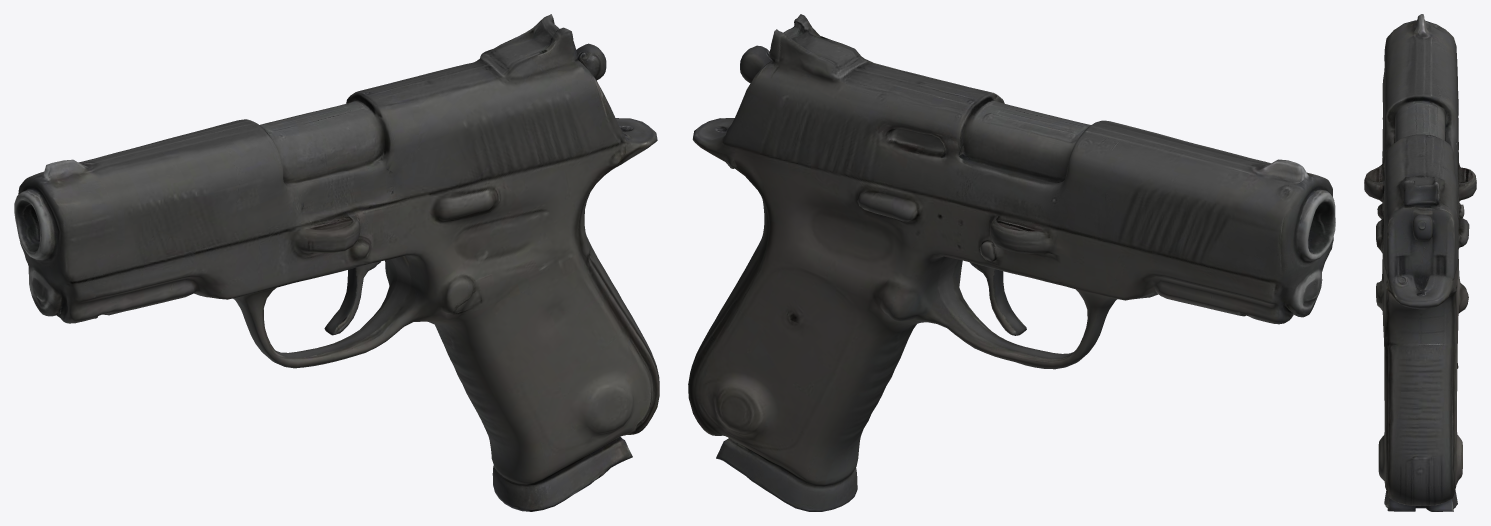
Rendered from wp_pistol.glb.
3 renders of one model, left to right at view 1: azimuth 30°, elevation 25°; view 2: azimuth 150°, elevation 25°; view 3: azimuth 270°, elevation 25°, orthographic. The views are drawn at different scales.
Visible parts, largest first — view 1: Mesh_0; view 2: Mesh_0; view 3: Mesh_0.
Part boxes in pixels (<box>): Mesh_0: <box>14,14,659,511</box>; Mesh_0: <box>688,14,1335,511</box>; Mesh_0: <box>1364,14,1476,511</box>.
Bounding box in the file's own units: 2 × 1.43 × 0.4323.
Materials: 1 (1 with a texture image).
